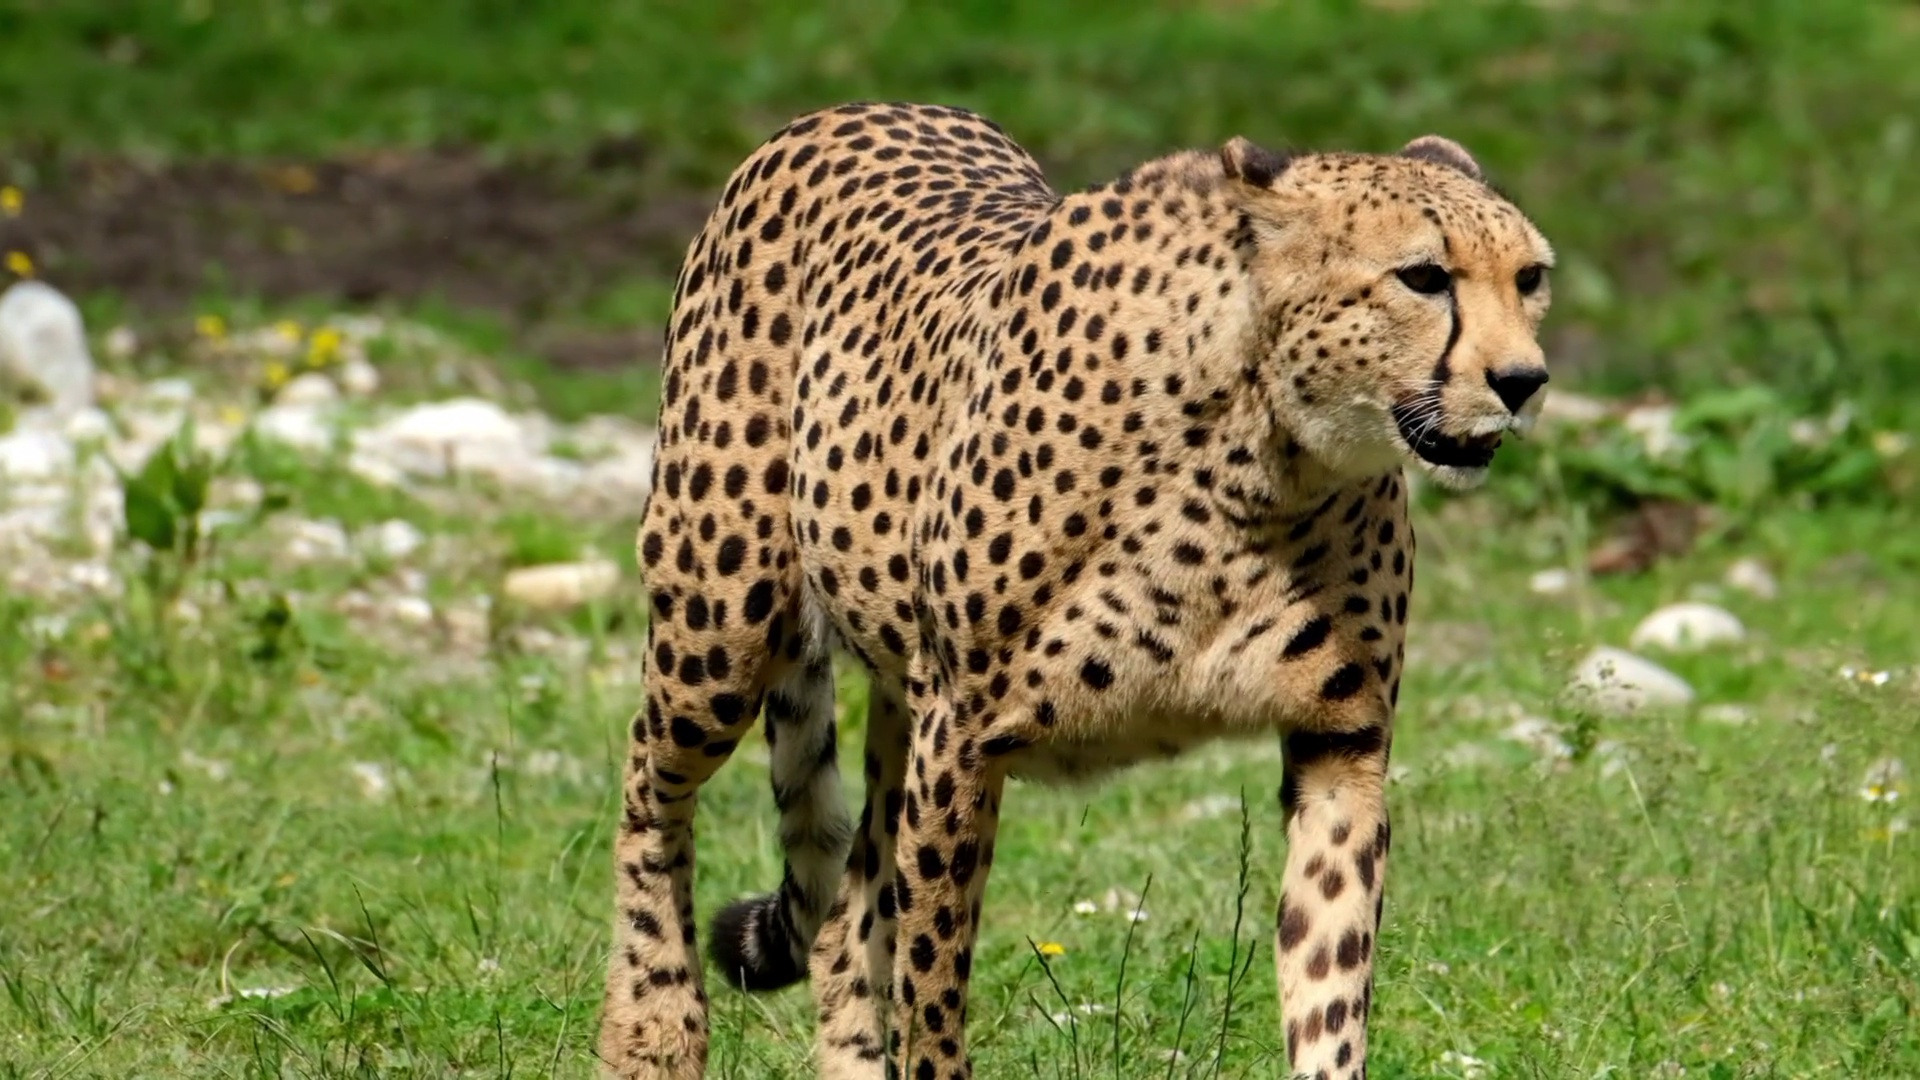Cheetah: (585, 90, 1561, 1080)
